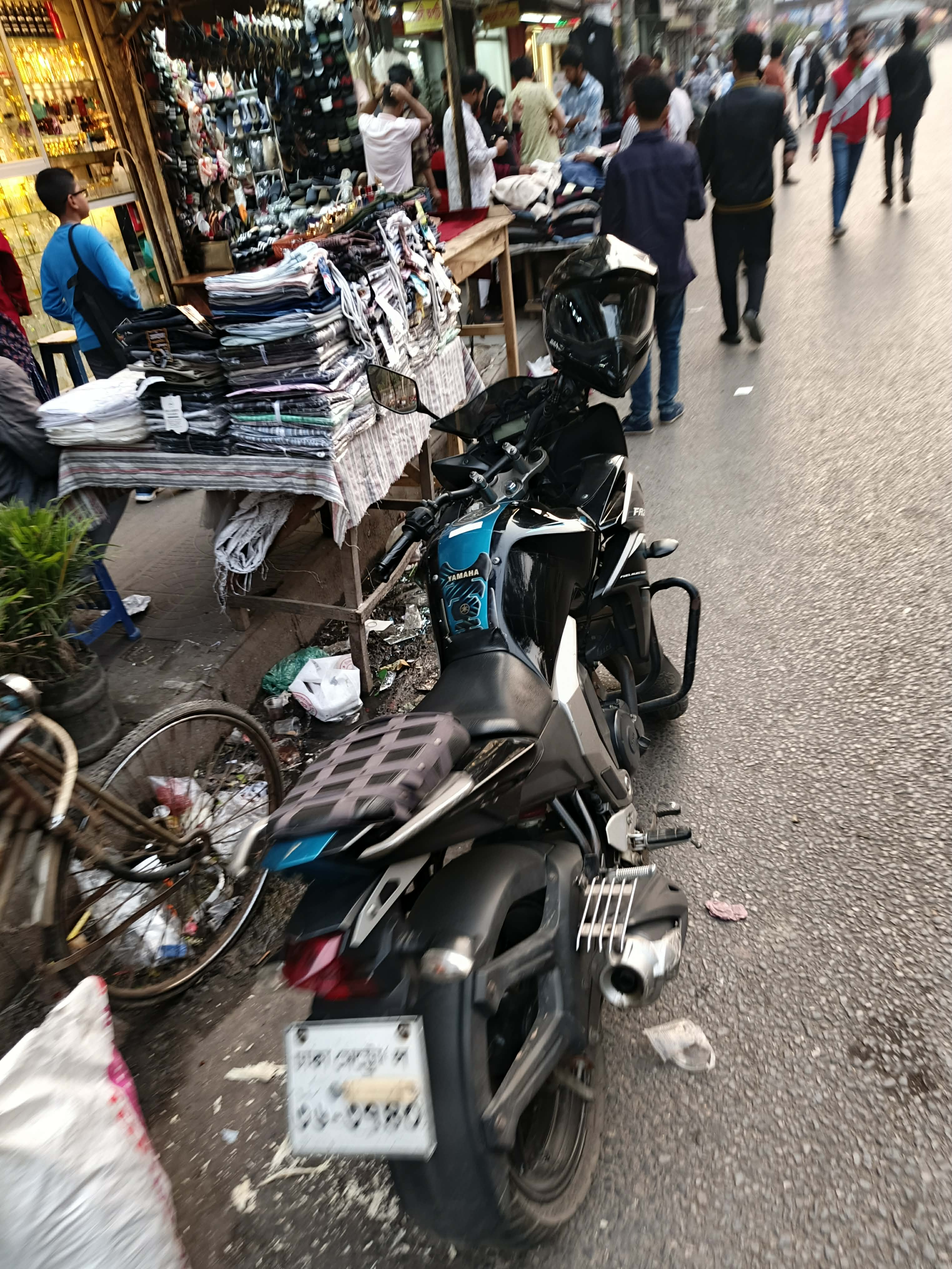Bikes: (275, 369, 717, 1249)
